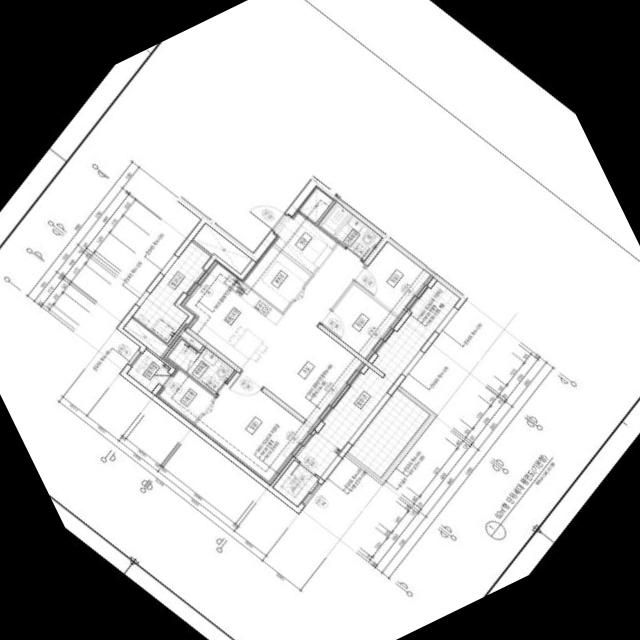background: (0, 0, 640, 640)
space_balconi: (272, 280, 459, 505), (132, 240, 210, 342)
space_bedroom: (194, 371, 312, 484), (321, 283, 399, 360), (355, 240, 432, 316)
space_dressroom: (155, 367, 213, 423)
space_front: (272, 210, 336, 272)
space_kitchen: (180, 259, 283, 368)
space_living_room: (241, 243, 364, 426)
space_other: (242, 243, 310, 311), (192, 222, 251, 273), (123, 317, 170, 358), (297, 185, 333, 222), (177, 328, 203, 349)
space_outdoor_room: (126, 348, 170, 391)
space_toilet: (317, 200, 381, 260), (167, 338, 234, 393)
